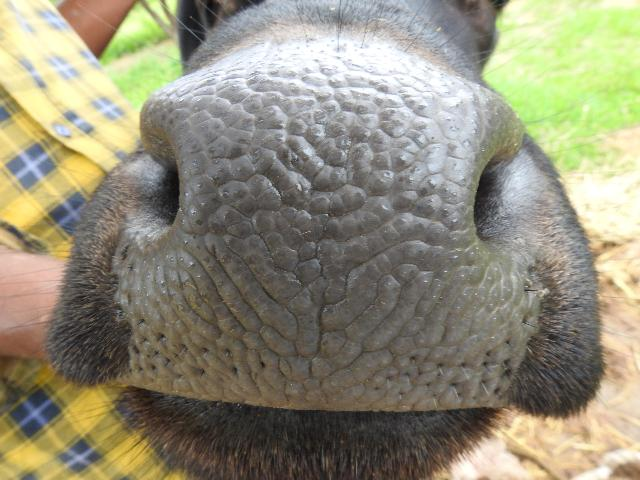Muzzle: (173, 72, 481, 406)
